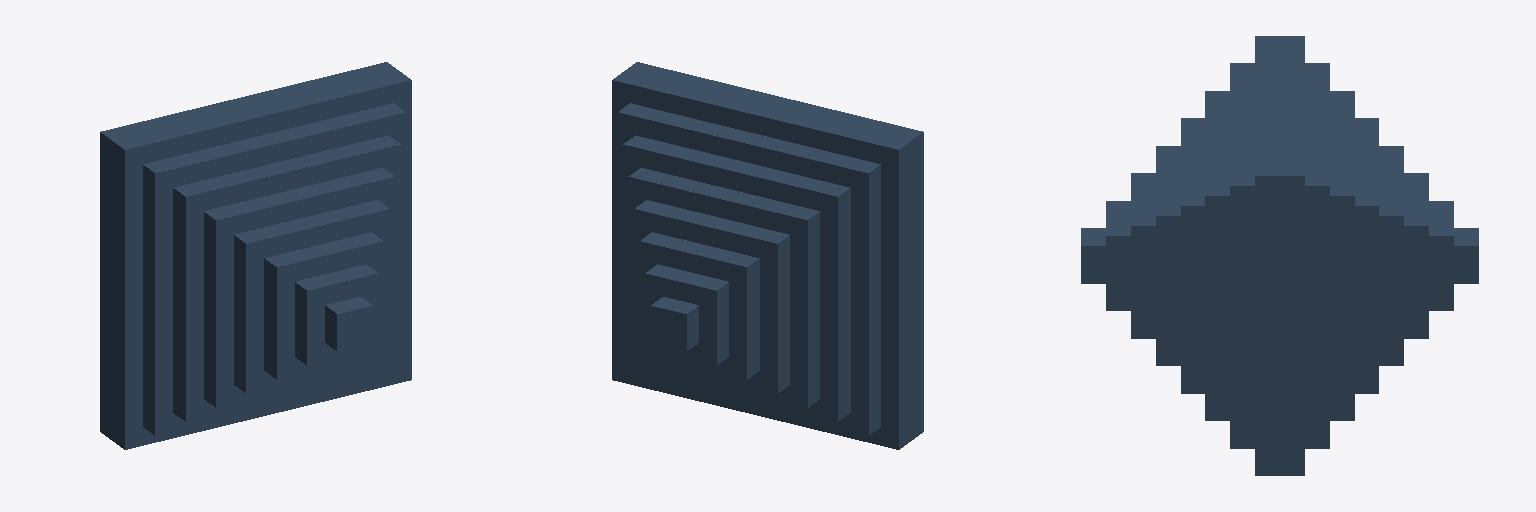
File: Asteroid.obj
3 views of the same model, side by side, from view 1: azimuth 30°, elevation 25°; view 2: azimuth 150°, elevation 25°; view 3: azimuth 270°, elevation 25° (orthographic).
Size of the model in its own units: 16 by 16 by 19.2.